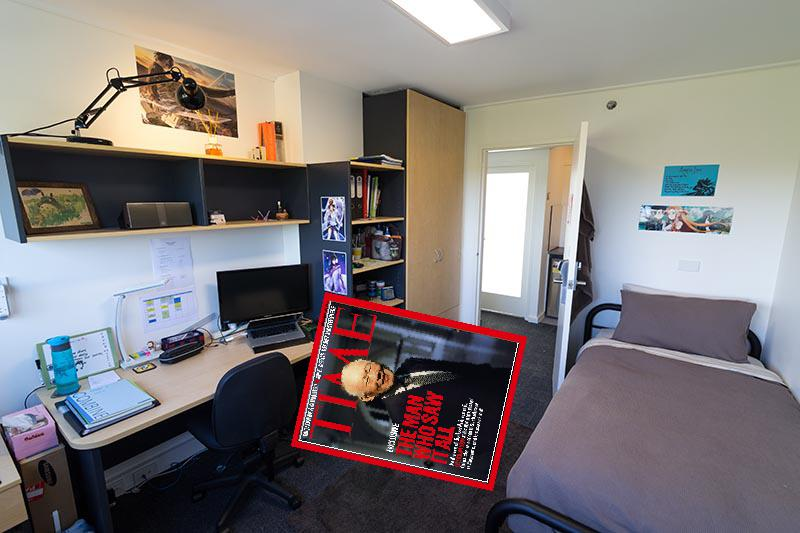times: (287, 291, 527, 493)
